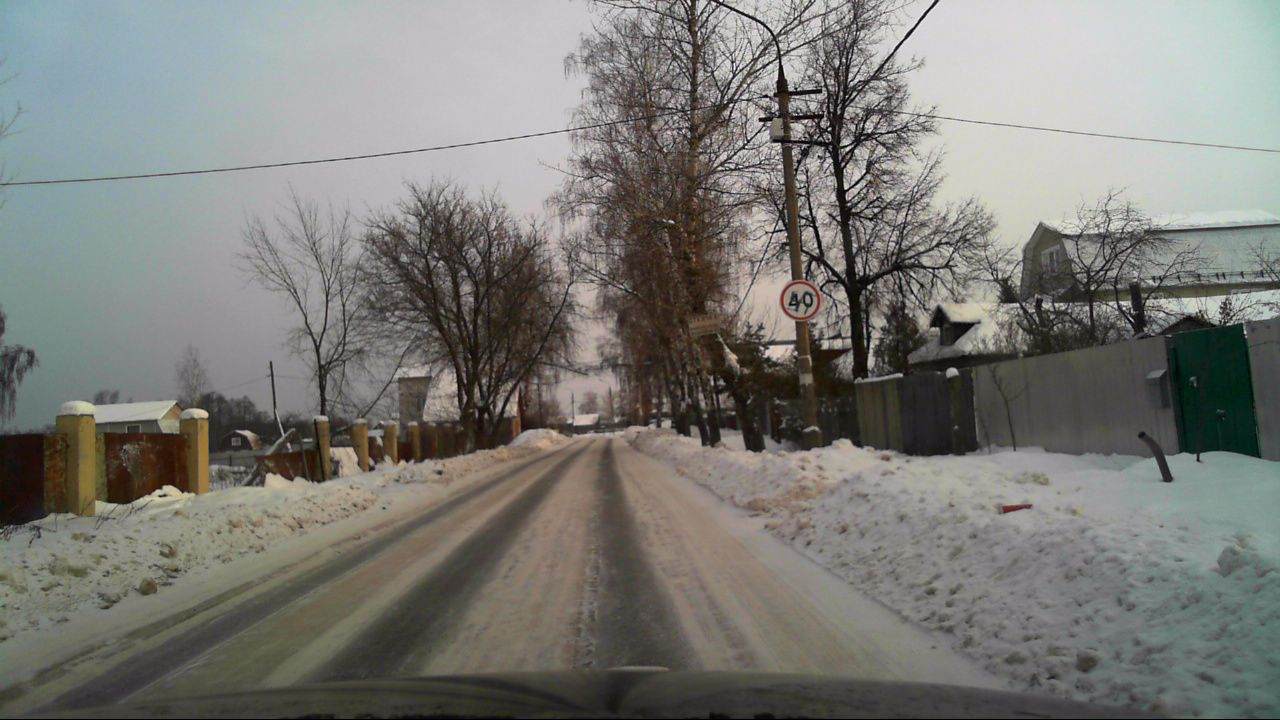speed_warning_40: (780, 279, 819, 320)
